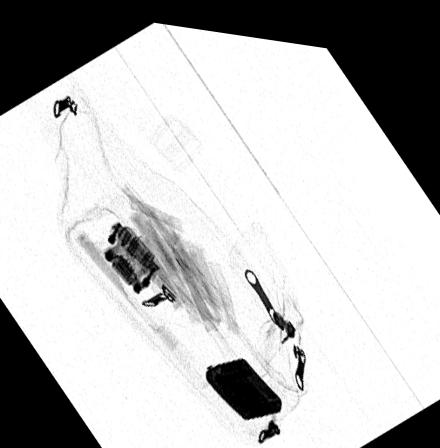Lighter: (204, 347, 282, 413)
